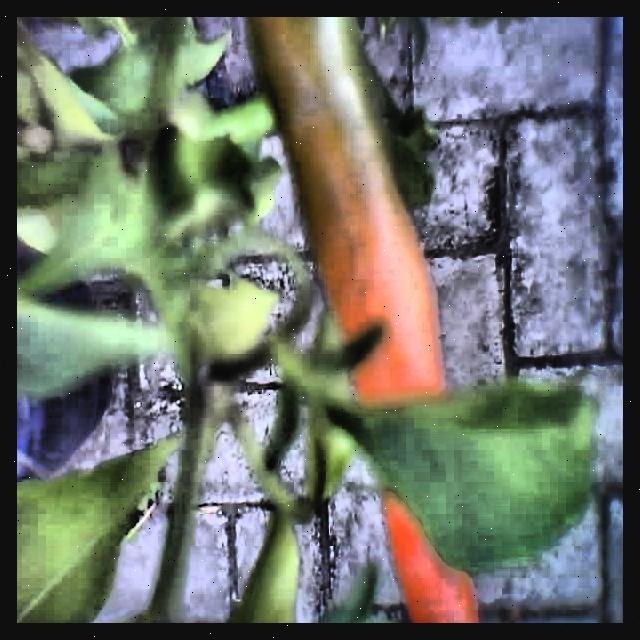Cabai: (258, 17, 452, 411)
